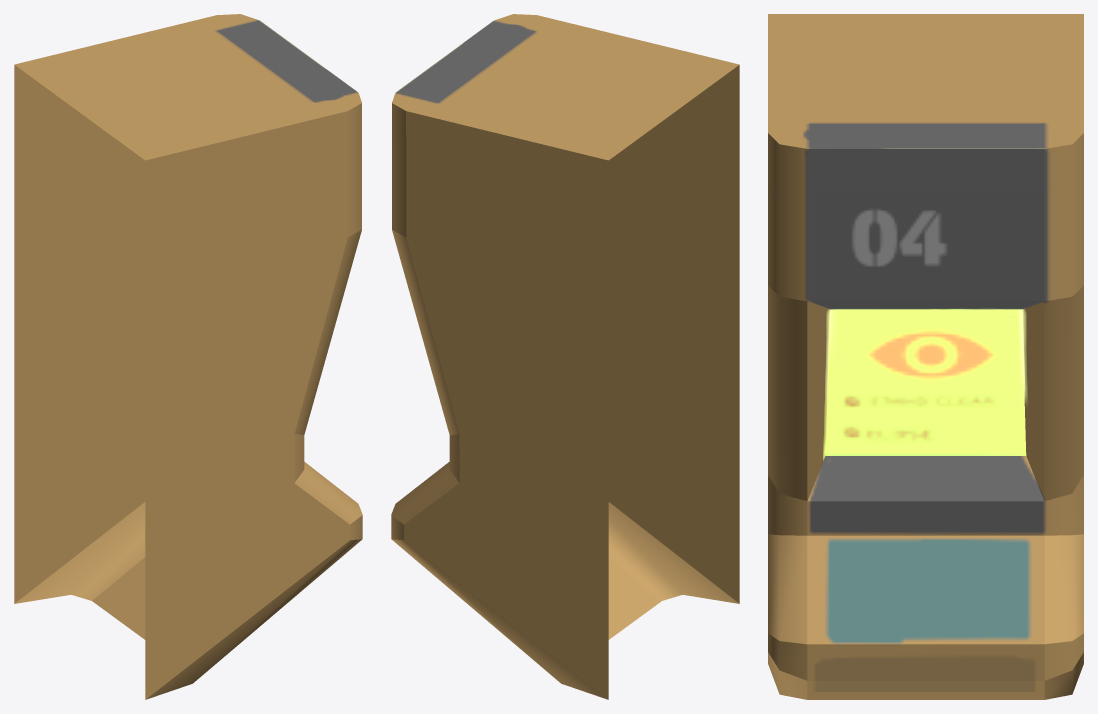
Rendered from Pfb_Soda_Instruments__3.fbx.
3 renders of one model, left to right at view 1: azimuth 30°, elevation 25°; view 2: azimuth 150°, elevation 25°; view 3: azimuth 270°, elevation 25°, orthographic. The views are drawn at different scales.
Parts seen in each view (by area): view 1: MAT_Soda_Instruments_Grey 1; view 2: MAT_Soda_Instruments_Grey 1; view 3: MAT_Soda_Instruments_Grey 1.
Part boxes in pixels (x1,y1,x2,y2): MAT_Soda_Instruments_Grey 1: [14, 14, 362, 699]; MAT_Soda_Instruments_Grey 1: [391, 14, 739, 699]; MAT_Soda_Instruments_Grey 1: [768, 14, 1083, 699].
Bounding box in the file's own units: 0.6814 × 1.53 × 0.6741.
Materials: 1 (1 with a texture image).
